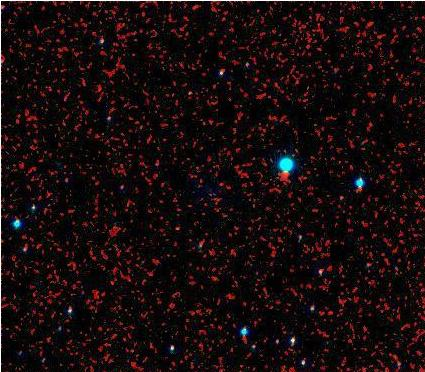star: (164, 211, 194, 241)
